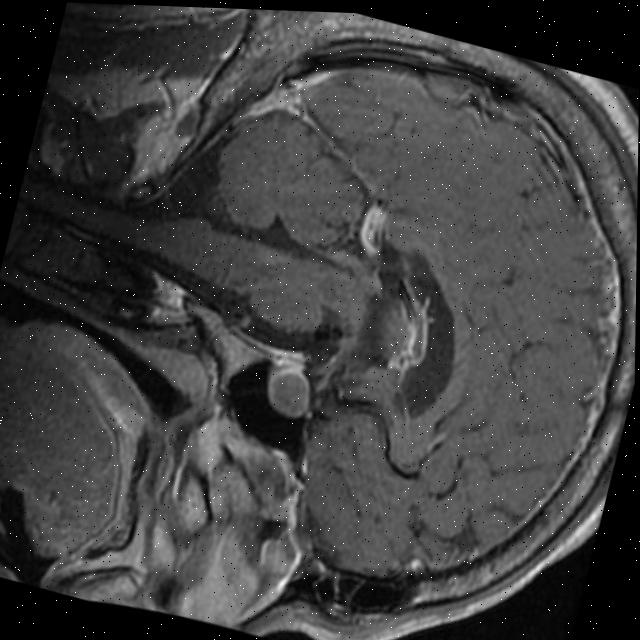Pituitary: (257, 359, 316, 424)
